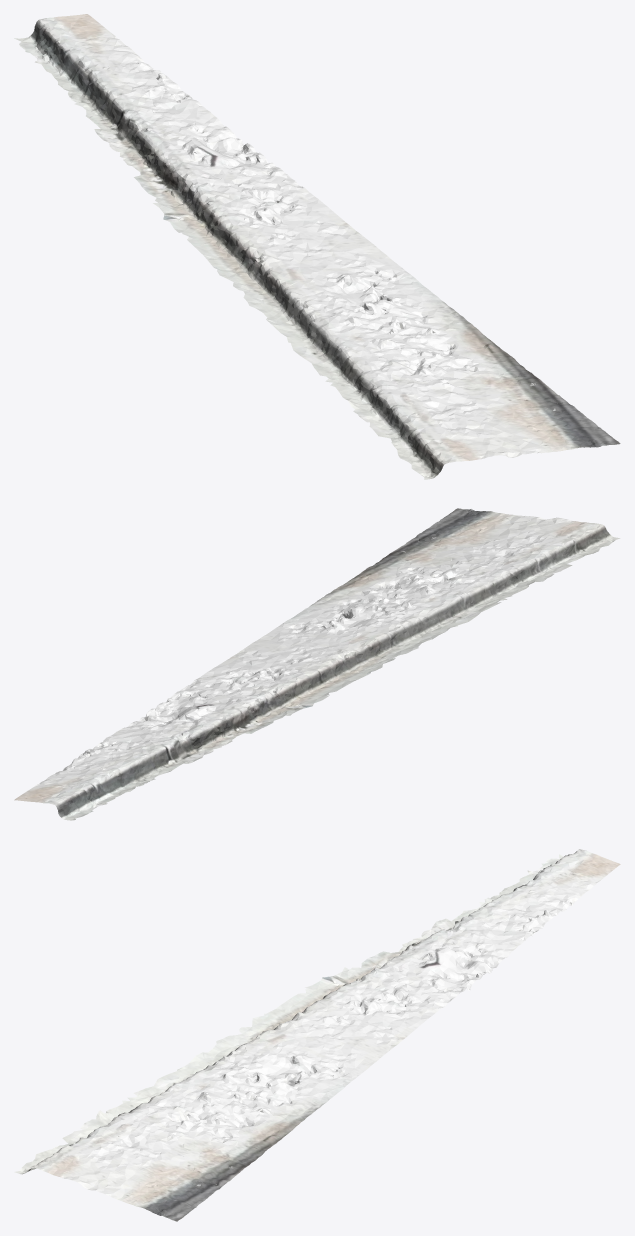
3 renders of one model, top to bottom at view 1: azimuth 30°, elevation 25°; view 2: azimuth 150°, elevation 25°; view 3: azimuth 330°, elevation 25°, orthographic. The views are drawn at different scales.
Bounding box in the file's own units: 1.62 × 0.3658 × 7.63.
Materials: 1 (1 with a texture image).
